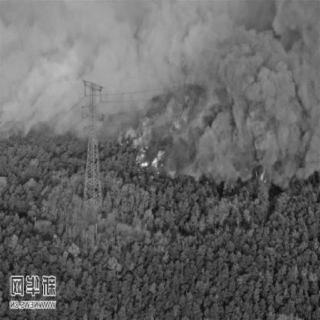Fire: (126, 78, 222, 180)
Smoke: (3, 2, 224, 124), (176, 4, 317, 176)
